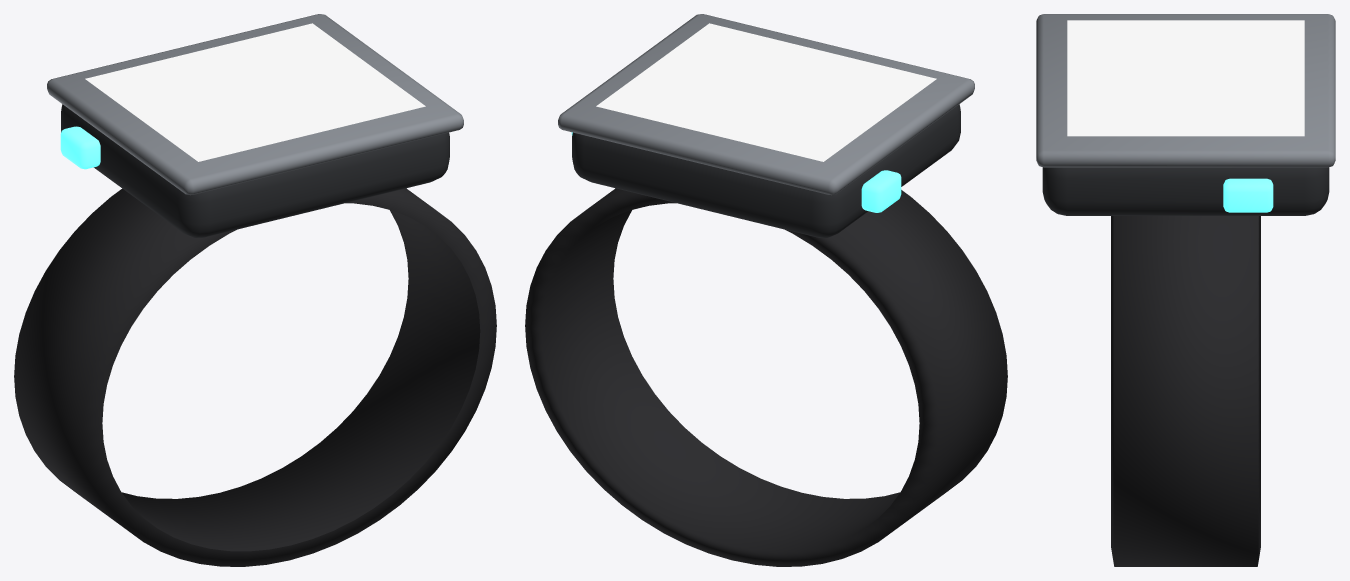
The model's file is divecomputer.glb.
3 renders of one model, left to right at view 1: azimuth 30°, elevation 25°; view 2: azimuth 150°, elevation 25°; view 3: azimuth 270°, elevation 25°, orthographic. The views are drawn at different scales.
Visible parts, largest first — view 1: dc_strap, dc_screen, dc_bezel, dc_shell, dc_btn; view 2: dc_strap, dc_screen, dc_bezel, dc_shell, dc_btn; view 3: dc_strap, dc_screen, dc_bezel, dc_shell, dc_btn.001.
Part boxes in pixels (box(x1,y1,x2,y2)): dc_strap: box(14, 188, 496, 566); dc_screen: box(85, 23, 425, 161); dc_bezel: box(47, 14, 463, 194); dc_shell: box(61, 104, 449, 237); dc_btn: box(60, 126, 100, 169); dc_strap: box(525, 188, 1007, 566); dc_screen: box(596, 23, 936, 161); dc_bezel: box(558, 14, 974, 194); dc_shell: box(572, 104, 960, 237); dc_btn: box(861, 170, 901, 212); dc_strap: box(1111, 216, 1260, 566); dc_screen: box(1067, 20, 1304, 136); dc_bezel: box(1036, 14, 1335, 167); dc_shell: box(1042, 167, 1329, 215); dc_btn.001: box(1223, 178, 1273, 212).
Size of the model in its own units: 0.08 by 0.0817 by 0.048.
